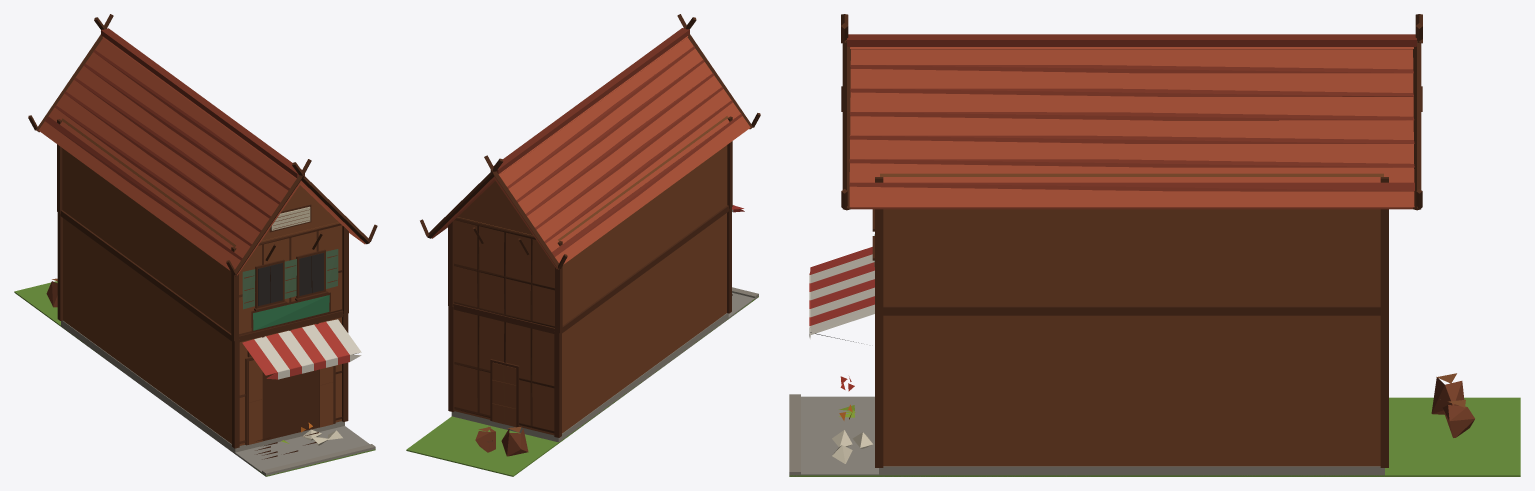
File: bay1_mid2.glb
3 renders of one model, left to right at view 1: azimuth 30°, elevation 25°; view 2: azimuth 150°, elevation 25°; view 3: azimuth 270°, elevation 25°, orthographic. The views are drawn at different scales.
Parts seen in each view (by area): view 1: body, windows; view 2: body; view 3: body.
Part boxes in pixels (box(x1,y1,x2,y2)): body: box(14, 14, 377, 476); windows: box(258, 253, 323, 306); body: box(406, 14, 760, 476); body: box(789, 14, 1520, 476).
Size of the model in its own units: 5.52 by 10.08 by 15.9.
